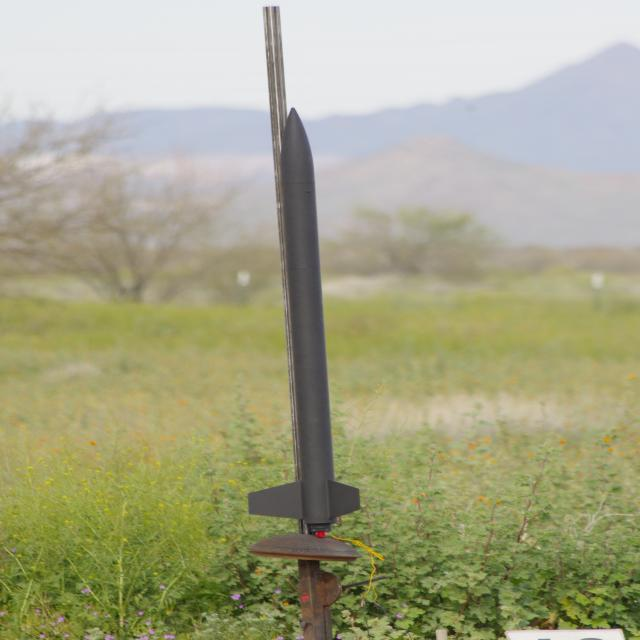Rocket: (248, 104, 365, 540)
